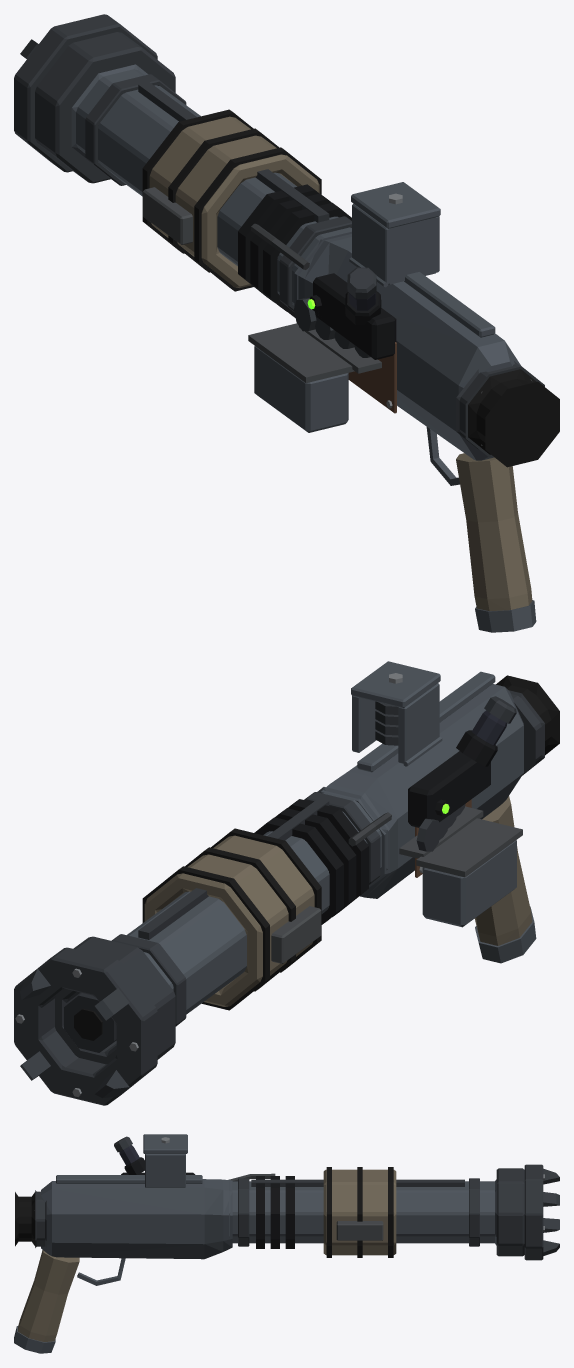
Rendered from bulkhead_e.glb.
3 renders of one model, top to bottom at view 1: azimuth 30°, elevation 25°; view 2: azimuth 150°, elevation 25°; view 3: azimuth 270°, elevation 25°, orthographic. The views are drawn at different scales.
Parts seen in each view (by area): view 1: Body, Pump, Feed; view 2: Body, Pump, Feed; view 3: Body, Pump.
Part boxes in pixels (x1,y1,x2,y2): Body: [14, 14, 559, 632]; Pump: [142, 109, 321, 291]; Feed: [248, 298, 381, 432]; Body: [14, 661, 559, 1105]; Pump: [142, 828, 321, 1010]; Feed: [399, 804, 522, 927]; Body: [14, 1134, 559, 1353]; Pump: [323, 1167, 396, 1257].
Bounding box in the file's own units: 0.132 × 0.2504 × 0.587.
